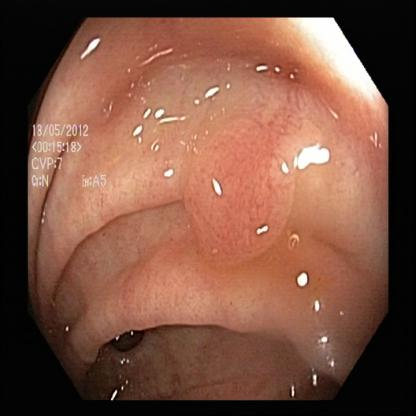Labels: (30, 114, 124, 200)
Polyps: (178, 103, 300, 270)
